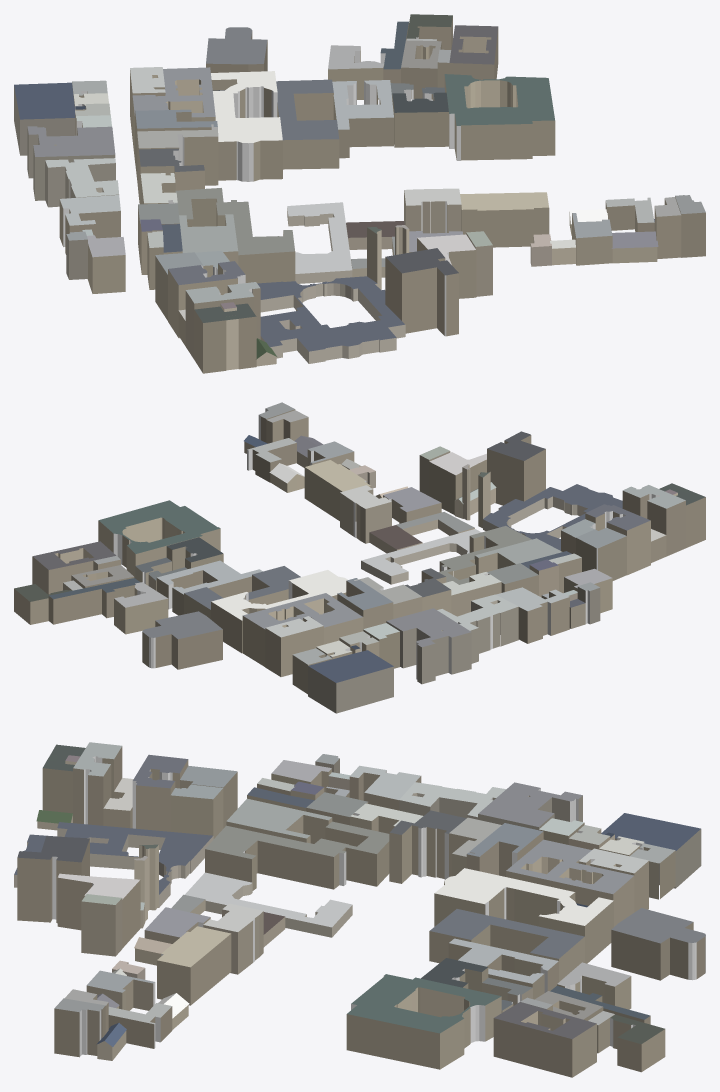
3 views of the same model, one above another, from view 1: azimuth 30°, elevation 25°; view 2: azimuth 150°, elevation 25°; view 3: azimuth 270°, elevation 25° (orthographic). The views are drawn at different scales.
Parts seen in each view (by area): view 1: tuile; view 2: tuile; view 3: tuile.
Boxes of the visible parts, x1,y1,x2,y2 form: tuile: (14, 14, 705, 373); tuile: (14, 402, 705, 713); tuile: (14, 742, 705, 1077).
Size of the model in its own units: 268 by 30.12 by 283.
